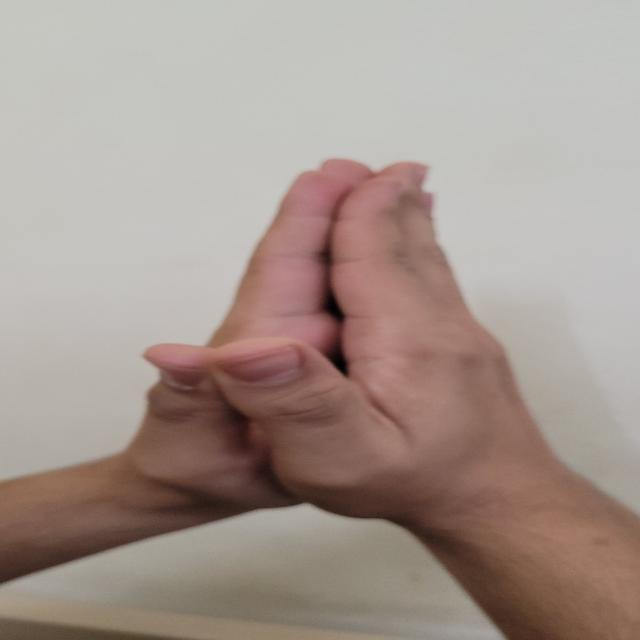Thank You: (111, 125, 523, 534)
